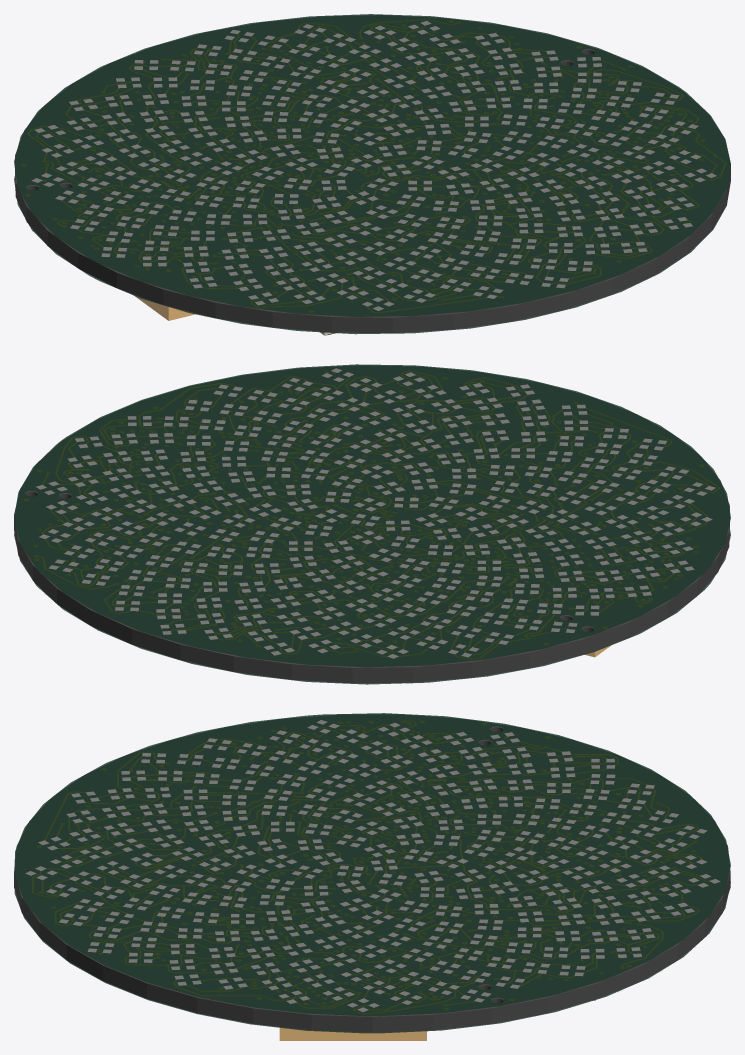
The model's file is board.glb.
3 renders of one model, top to bottom at view 1: azimuth 30°, elevation 25°; view 2: azimuth 150°, elevation 25°; view 3: azimuth 270°, elevation 25°, orthographic.
Visible parts, largest first — view 1: round-pendant_soldermask (×2), round-pendant_PCB, round-pendant_pad, round-pendant_copper; view 2: round-pendant_soldermask (×2), round-pendant_PCB, round-pendant_pad, round-pendant_copper; view 3: round-pendant_soldermask (×2), round-pendant_PCB, round-pendant_pad, round-pendant_copper, U2.
Boxes of the visible parts, x1=… form: round-pendant_soldermask (×2): x1=14, y1=14, x2=730, y2=334; round-pendant_PCB: x1=15, y1=15, x2=730, y2=333; round-pendant_pad: x1=31, y1=21, x2=716, y2=311; round-pendant_copper: x1=21, y1=20, x2=725, y2=312; round-pendant_soldermask (×2): x1=14, y1=364, x2=730, y2=684; round-pendant_PCB: x1=14, y1=366, x2=729, y2=683; round-pendant_pad: x1=36, y1=368, x2=715, y2=658; round-pendant_copper: x1=24, y1=371, x2=719, y2=659; round-pendant_soldermask (×2): x1=14, y1=713, x2=730, y2=1033; round-pendant_PCB: x1=14, y1=715, x2=730, y2=1032; round-pendant_pad: x1=25, y1=720, x2=720, y2=1012; round-pendant_copper: x1=32, y1=721, x2=709, y2=1014; U2: x1=279, y1=1027, x2=426, y2=1040.
Bounding box in the file's own units: 0.038 × 0.00354 × 0.038.
